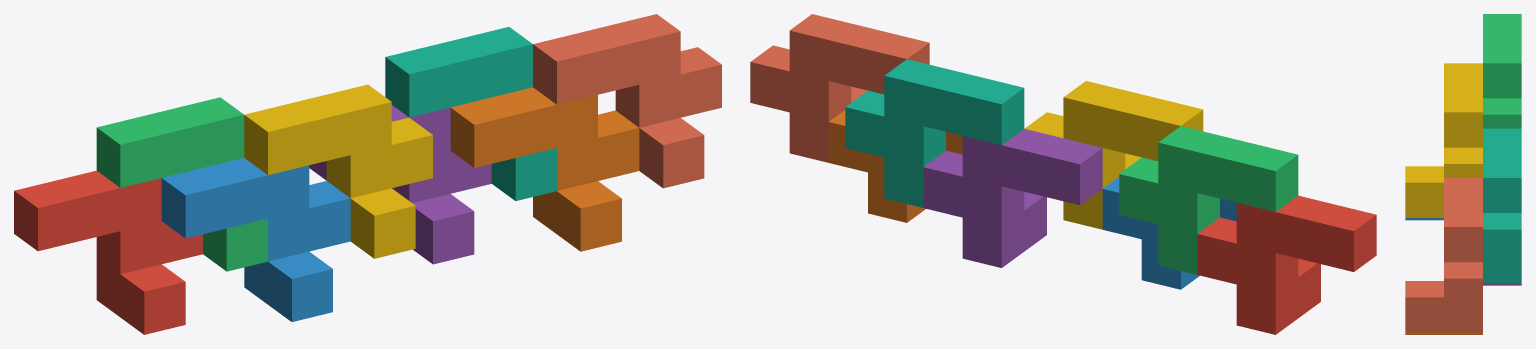
File: tiling.obj
The picture shows the model from 3 angles, left to right: view 1: azimuth 30°, elevation 25°; view 2: azimuth 150°, elevation 25°; view 3: azimuth 270°, elevation 25°; orthographic projection. The views are drawn at different scales.
Visible parts, largest first — view 1: copy_1_domain_4, copy_1_domain_8, copy_1_domain_2, copy_1_domain_6, copy_1_domain_1, copy_1_domain_3, copy_1_domain_7, copy_1_domain_5; view 2: copy_1_domain_1, copy_1_domain_5, copy_1_domain_3, copy_1_domain_7, copy_1_domain_8, copy_1_domain_4, copy_1_domain_2, copy_1_domain_6; view 3: copy_1_domain_8, copy_1_domain_4, copy_1_domain_7, copy_1_domain_3, copy_1_domain_6, copy_1_domain_2, copy_1_domain_5.
Part boxes in pixels (<box>): copy_1_domain_4: <box>244,84,432,258</box>; copy_1_domain_8: <box>533,14,721,188</box>; copy_1_domain_2: <box>161,158,350,321</box>; copy_1_domain_6: <box>450,87,639,251</box>; copy_1_domain_1: <box>14,170,202,334</box>; copy_1_domain_3: <box>96,97,267,271</box>; copy_1_domain_7: <box>385,27,556,200</box>; copy_1_domain_5: <box>309,105,491,264</box>; copy_1_domain_1: <box>1197,195,1376,334</box>; copy_1_domain_5: <box>923,129,1102,267</box>; copy_1_domain_3: <box>1119,126,1298,274</box>; copy_1_domain_7: <box>845,59,1024,207</box>; copy_1_domain_8: <box>750,14,929,162</box>; copy_1_domain_4: <box>1024,81,1203,229</box>; copy_1_domain_2: <box>1102,177,1236,289</box>; copy_1_domain_6: <box>828,110,962,222</box>; copy_1_domain_8: <box>1405,178,1482,332</box>; copy_1_domain_4: <box>1405,63,1482,217</box>; copy_1_domain_7: <box>1483,128,1521,283</box>; copy_1_domain_3: <box>1483,14,1521,128</box>; copy_1_domain_6: <box>1405,332,1482,334</box>; copy_1_domain_2: <box>1405,218,1443,220</box>; copy_1_domain_5: <box>1483,283,1521,285</box>.
Bounding box in the file's own units: 16 × 4 × 3.
